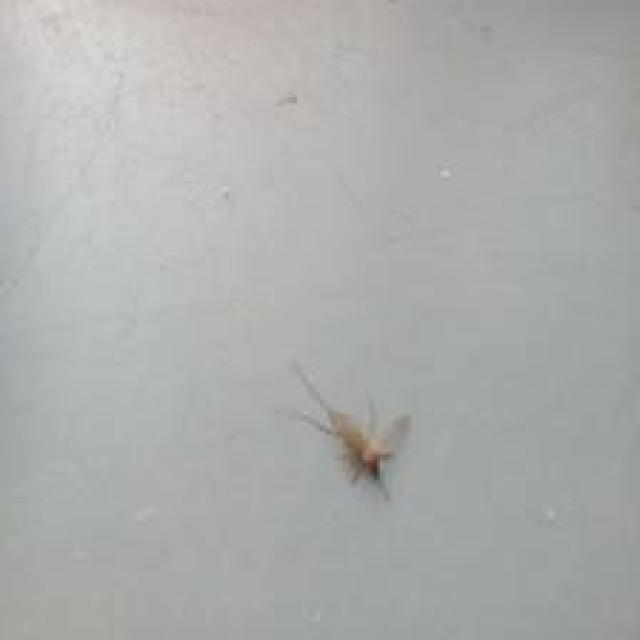Culex: (276, 358, 413, 502)
